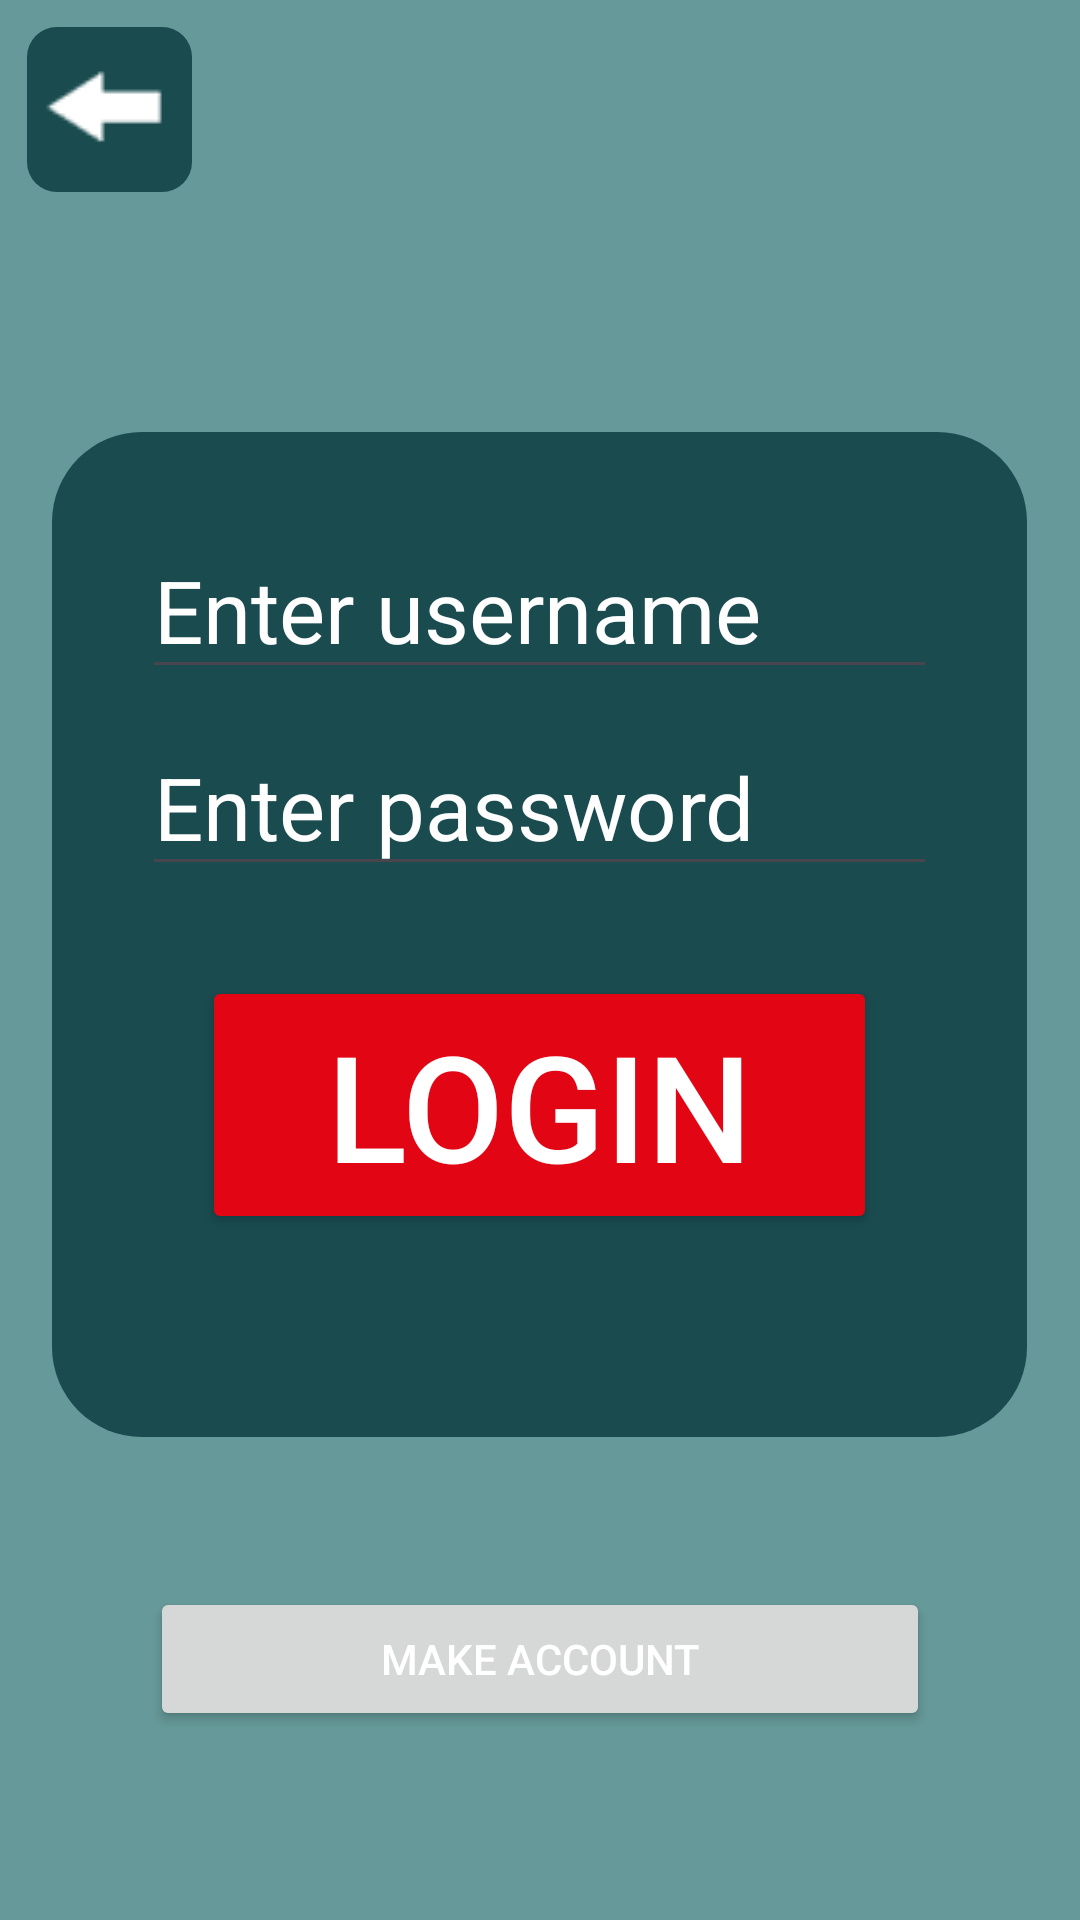

Locate icon controls on the screen. Image size 1080px×1920px, boxes as BBox(x1, y1, x2, y2).
go back: BBox(27, 27, 192, 192)
